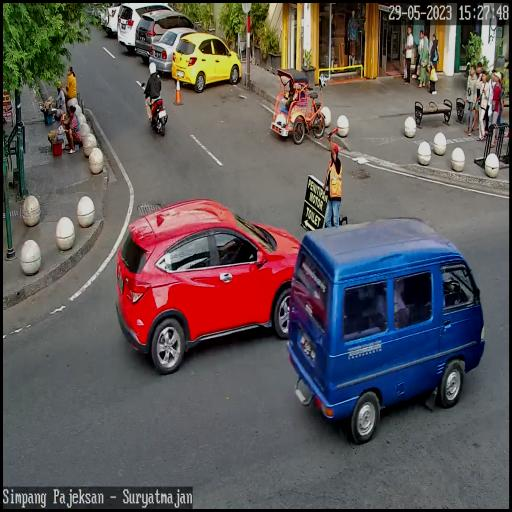mobil: (283, 217, 484, 442), (113, 195, 304, 376), (174, 30, 244, 98), (135, 8, 206, 72), (117, 0, 179, 65), (151, 26, 200, 80)
motor: (138, 73, 168, 137)
